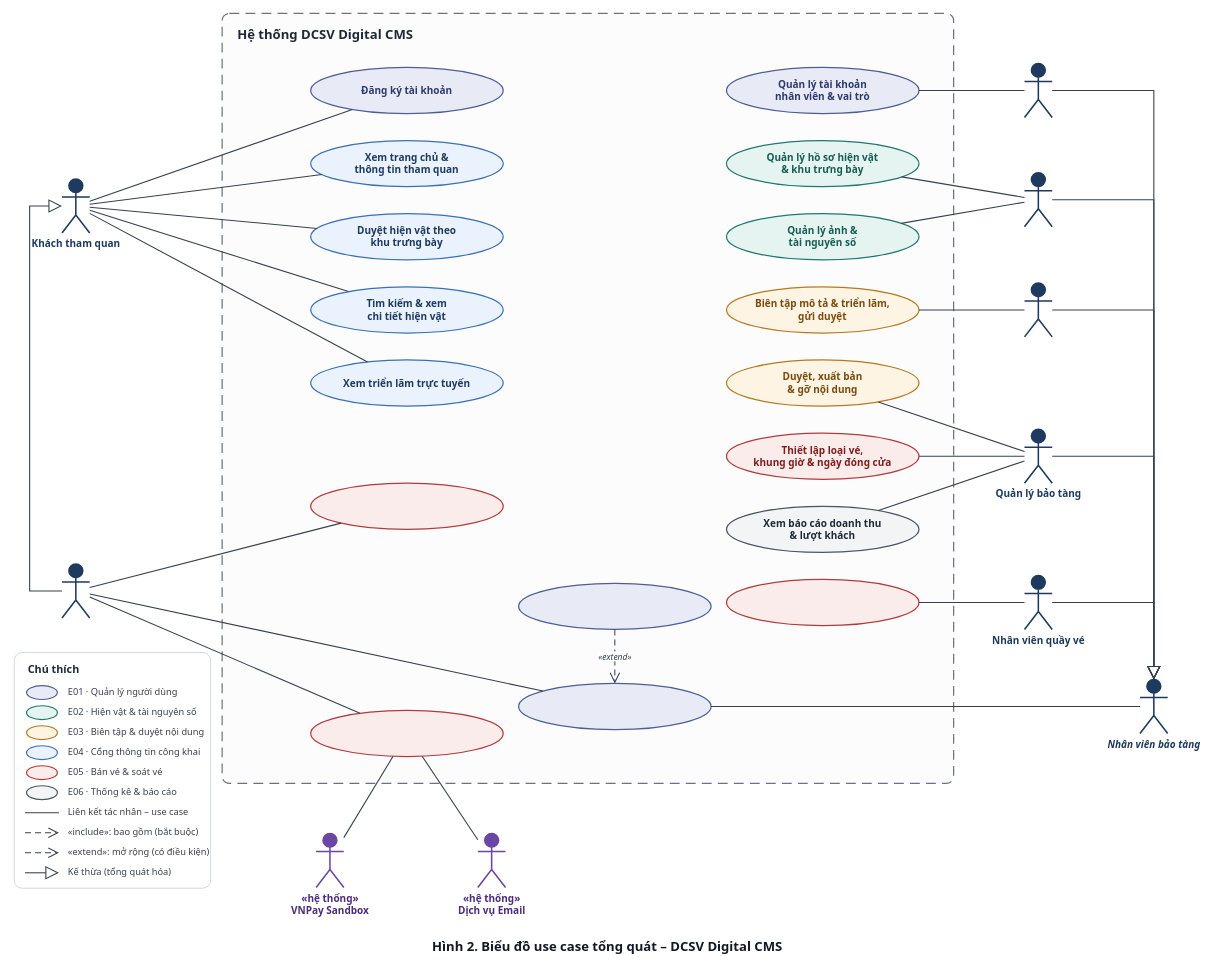
The diagram is 1214 pixels wide and 972 high, and some of its shapes have lost their labels. Each missing label, with the centre of its shape:
Biên tập viên: [1038,309]
Chuyên viên sưu tập: [1038,199]
Mua vé online: [406,733]
Quên mật khẩu: [614,606]
Quản trị viên: [1038,90]
Soát vé bằng mã QR: [822,602]
Thành viên: [75,590]
Xem vé của tôi: [406,506]
Đăng nhập: [614,706]
